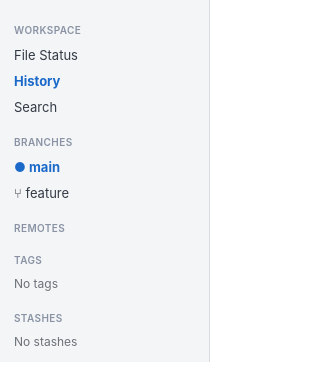
Test case: Sidebar branch context menu › offers only rename for the current branch
The width and height of the screenshot is (320, 379).
Right-click the text "● main": [37, 167] box [14,159,60,175]
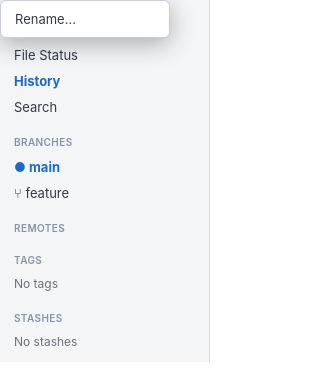
expect the text "Rename…" is shown: met, box [15,11,76,27]
